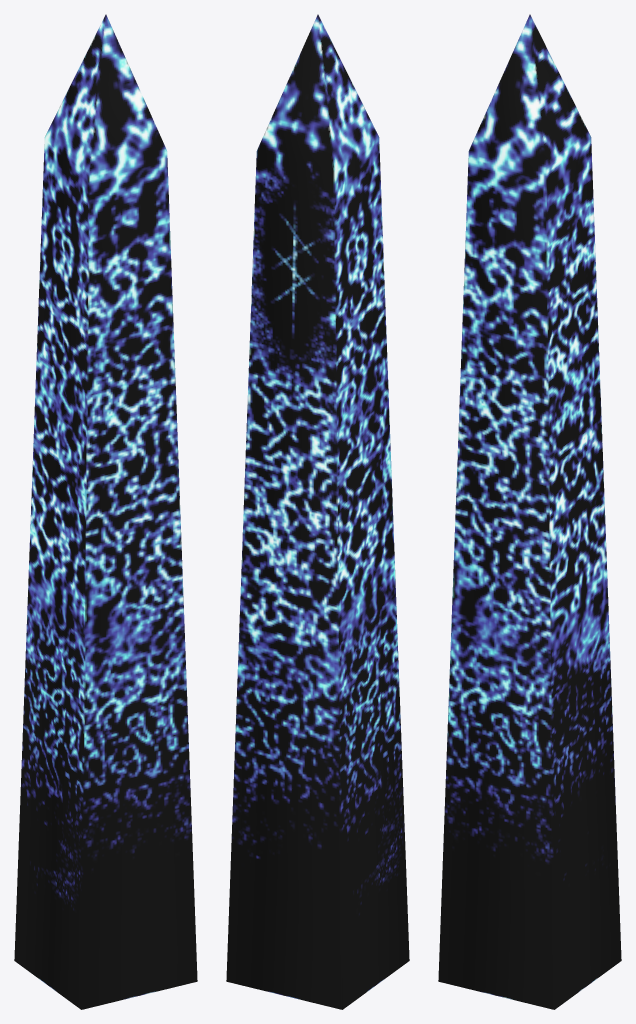
File: Obelisk.fbx
The picture shows the model from 3 angles, left to right: view 1: azimuth 30°, elevation 25°; view 2: azimuth 150°, elevation 25°; view 3: azimuth 330°, elevation 25°; orthographic projection.
Parts seen in each view (by area): view 1: Obelisk; view 2: Obelisk; view 3: Obelisk.
Part boxes in pixels (x1,y1,x2,y2): Obelisk: [14, 14, 197, 1009]; Obelisk: [226, 14, 409, 1009]; Obelisk: [438, 14, 621, 1009].
Bounding box in the file's own units: 2.73 × 21.51 × 2.73.
